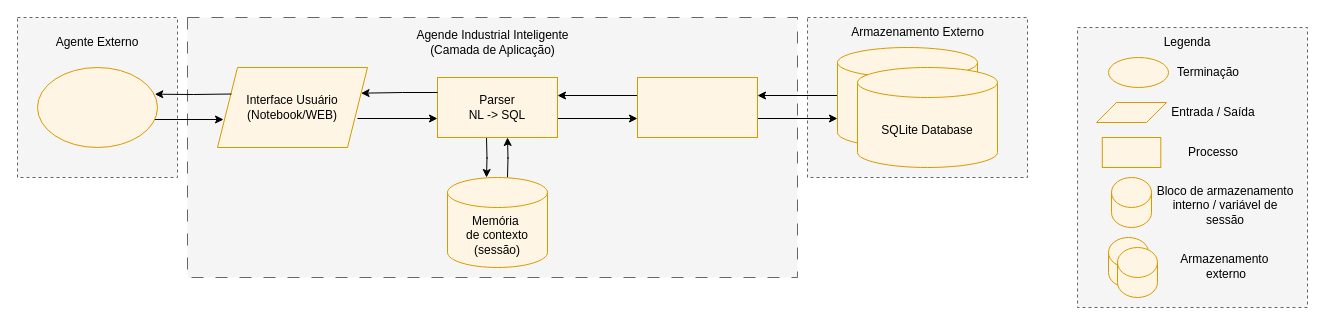
Some shapes in this 1325 by 325 pixel diagram are drawn without their labels. The centre of each missing label's shape, as x and y in pixels:
"Executor SQL" goes at (697,107).
"Usuário" goes at (97,107).
